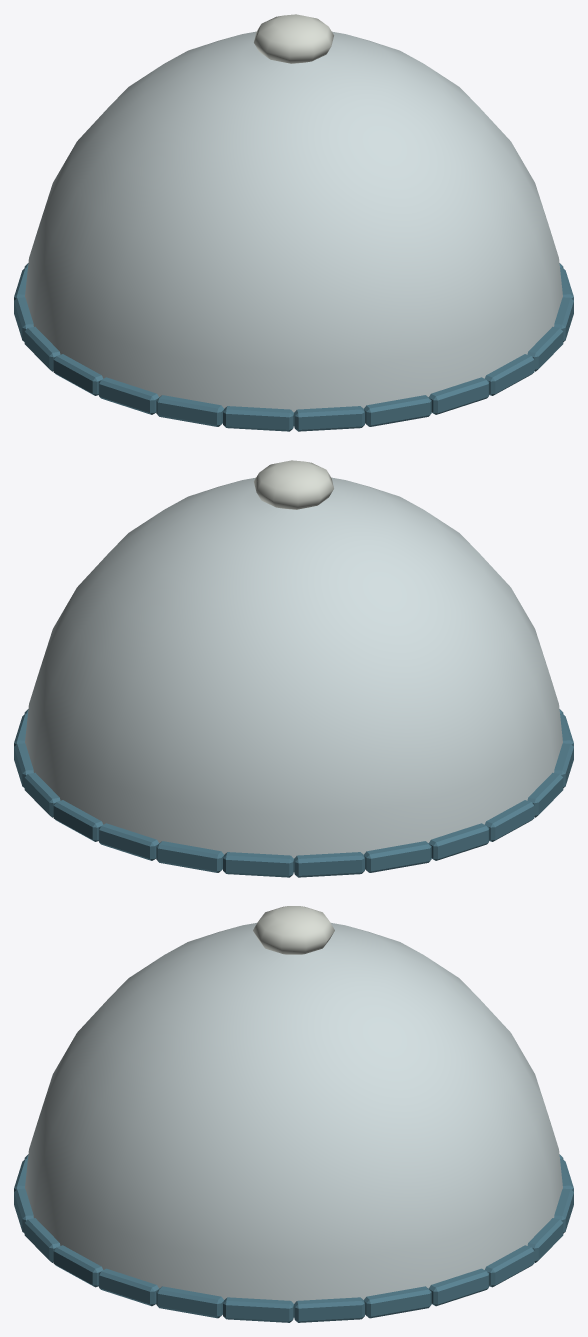
The model's file is CoopCozy_Cover.fbx.
3 views of the same model, one above another, from view 1: azimuth 30°, elevation 25°; view 2: azimuth 150°, elevation 25°; view 3: azimuth 270°, elevation 25° (orthographic).
Visible parts, largest first — view 1: CoopCozy_Cover; view 2: CoopCozy_Cover; view 3: CoopCozy_Cover.
Part boxes in pixels (x1=…): CoopCozy_Cover: x1=14, y1=14, x2=573, y2=431; CoopCozy_Cover: x1=14, y1=460, x2=573, y2=877; CoopCozy_Cover: x1=14, y1=906, x2=573, y2=1322.
Size of the model in its own units: 0.9532 by 0.5525 by 0.9532.
